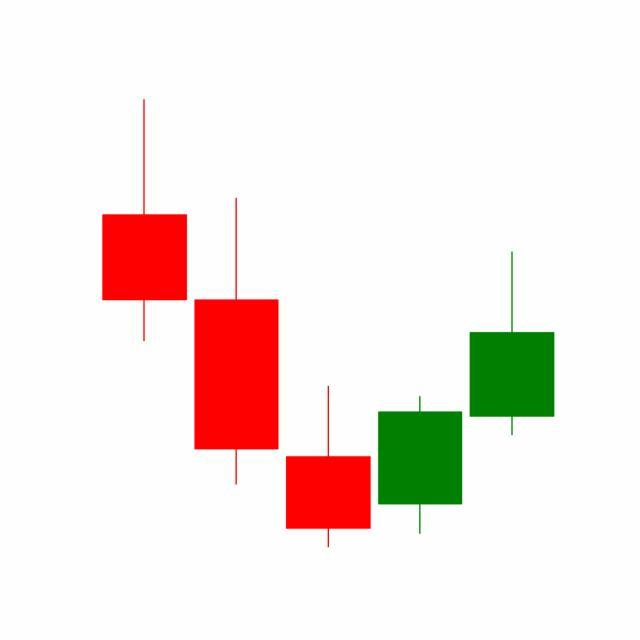Upside-Downside Gap Three Methods: (190, 193, 467, 548)
